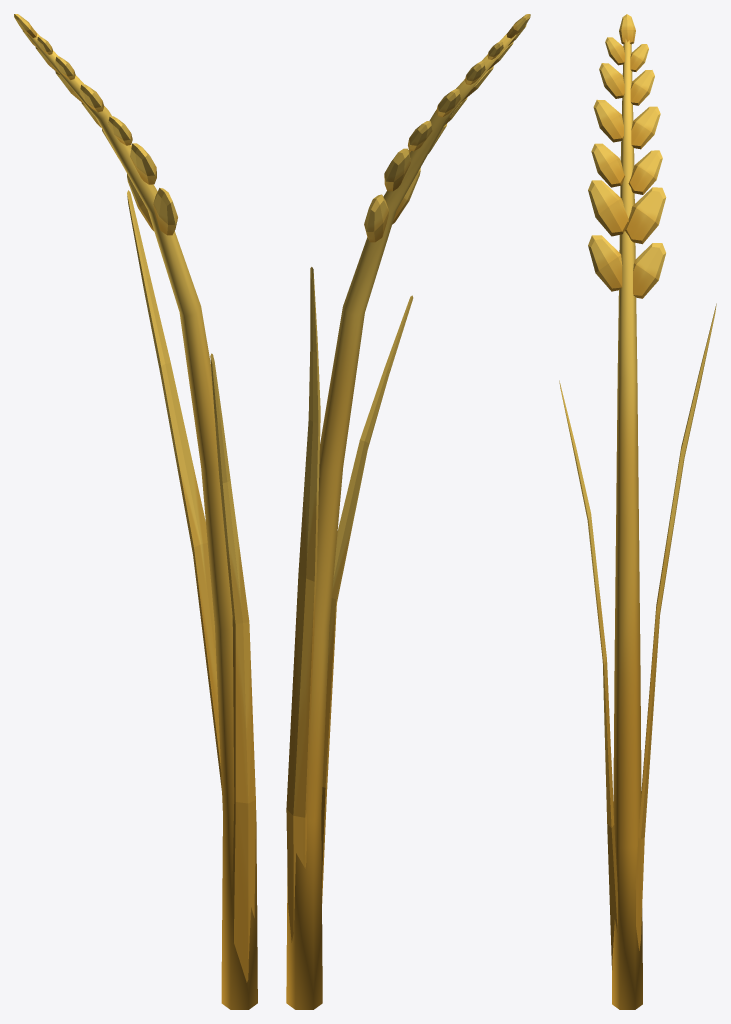
The model's file is grain_01.glb.
The picture shows the model from 3 angles, left to right: view 1: azimuth 30°, elevation 25°; view 2: azimuth 150°, elevation 25°; view 3: azimuth 270°, elevation 25°; orthographic projection. The views are drawn at different scales.
Visible parts, largest first — view 1: Grain_01; view 2: Grain_01; view 3: Grain_01.
Part boxes in pixels (left/top/right/bottom): Grain_01: left=14, top=14, right=257, bottom=1009; Grain_01: left=286, top=14, right=530, bottom=1009; Grain_01: left=559, top=14, right=716, bottom=1009.
Bounding box in the file's own units: 1.22 × 5.09 × 0.8123.
1 material, 1 textured.
